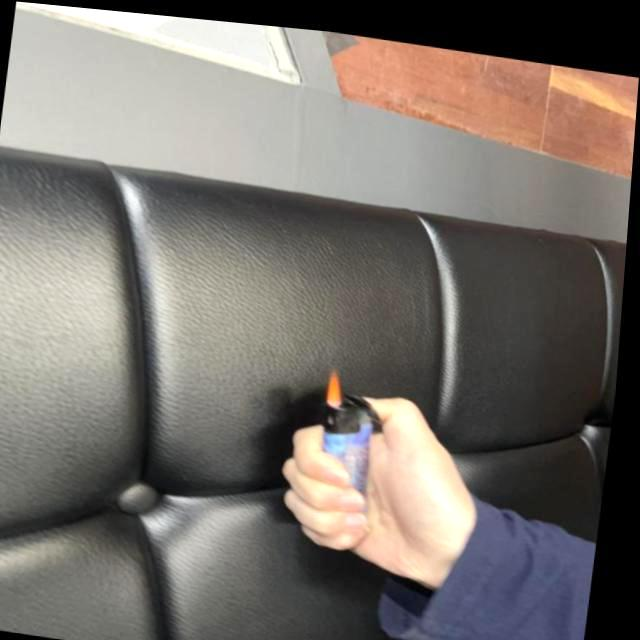fire: (330, 360, 354, 402)
